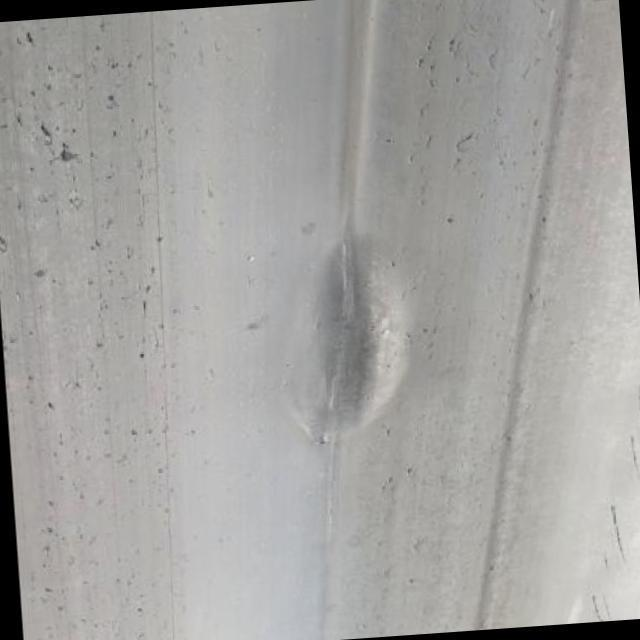Impact Damage: (273, 218, 419, 457)
Puncture: (38, 120, 56, 142), (22, 30, 40, 50), (101, 92, 119, 110), (420, 37, 438, 54), (88, 237, 105, 252), (446, 36, 461, 52), (41, 584, 58, 598), (44, 398, 58, 412), (32, 268, 48, 280), (142, 280, 154, 295), (140, 301, 151, 316), (46, 496, 58, 509), (152, 236, 167, 246), (404, 465, 416, 477), (44, 524, 56, 536), (384, 426, 394, 440), (130, 426, 140, 440), (444, 213, 454, 226), (138, 348, 146, 362), (135, 606, 145, 617), (540, 216, 552, 224)
